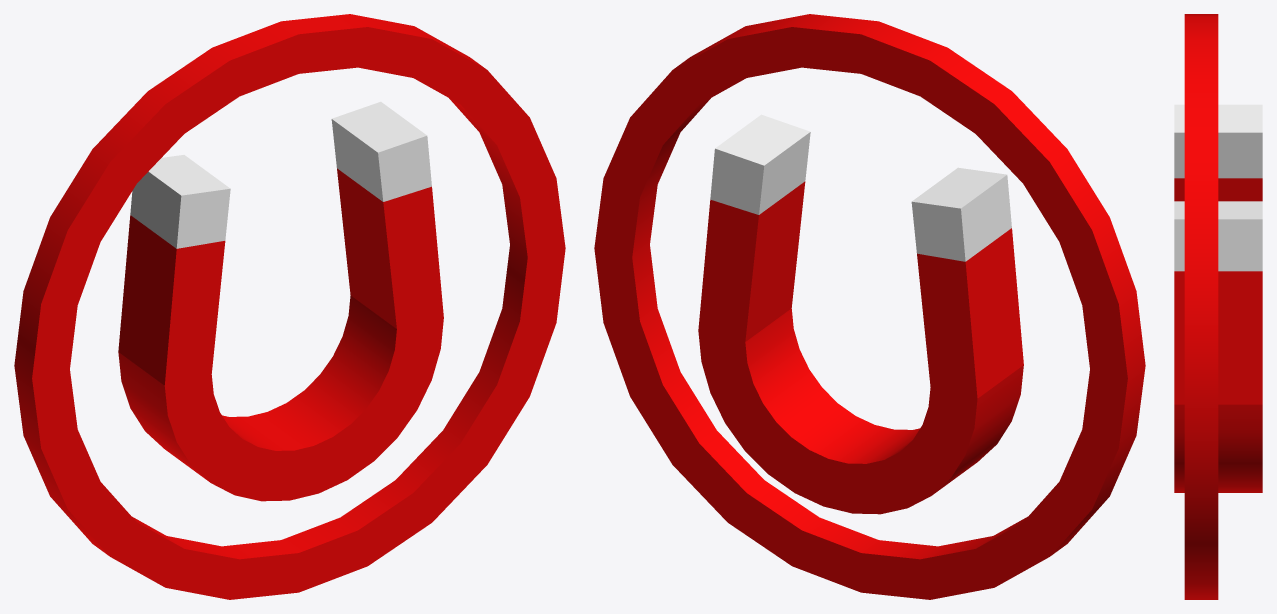
Rendered from Mıknatıs.fbx.
The picture shows the model from 3 angles, left to right: view 1: azimuth 30°, elevation 25°; view 2: azimuth 150°, elevation 25°; view 3: azimuth 270°, elevation 25°; orthographic projection. The views are drawn at different scales.
Parts seen in each view (by area): view 1: Mıknatıs; view 2: Mıknatıs; view 3: Mıknatıs.
Part boxes in pixels (x1,y1,x2,y2): Mıknatıs: (14,14,565,599); Mıknatıs: (594,14,1145,599); Mıknatıs: (1174,14,1262,599).
Size of the model in its own units: 39.42 by 39.42 by 5.94.
